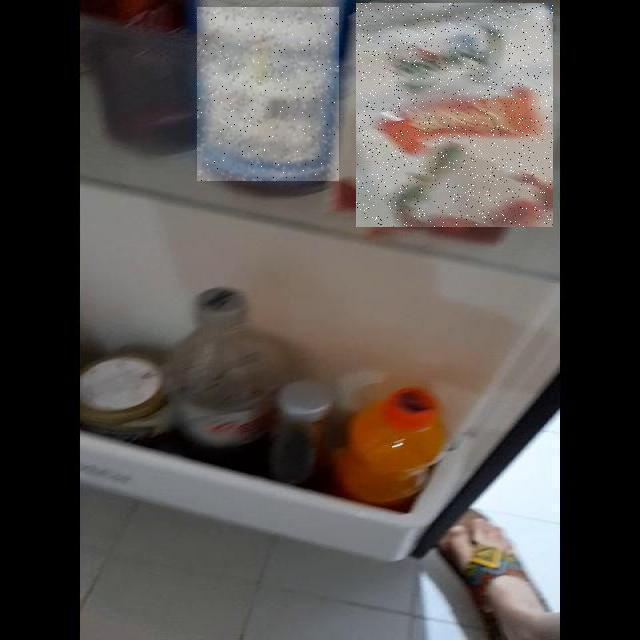Cheese: (356, 3, 553, 227)
Sauce: (197, 7, 339, 181)
